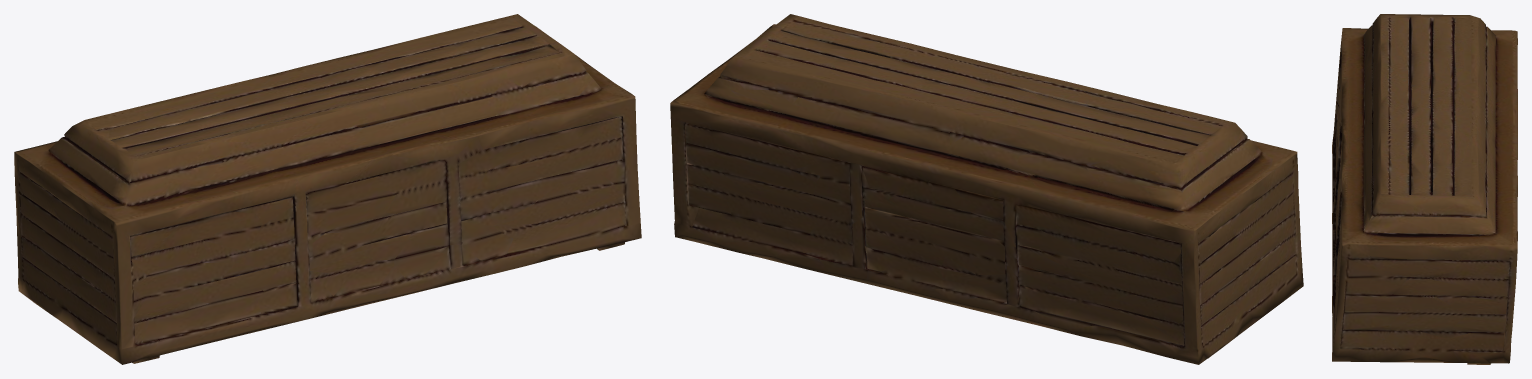
Rendered from Kabaong-512(10k).glb.
3 renders of one model, left to right at view 1: azimuth 30°, elevation 25°; view 2: azimuth 150°, elevation 25°; view 3: azimuth 270°, elevation 25°, orthographic. The views are drawn at different scales.
Visible parts, largest first — view 1: tripo_node_4a65c9a6-be33-41cd-bee0-36e4348d8f76; view 2: tripo_node_4a65c9a6-be33-41cd-bee0-36e4348d8f76; view 3: tripo_node_4a65c9a6-be33-41cd-bee0-36e4348d8f76.
Part boxes in pixels (x1,y1,x2,y2): tripo_node_4a65c9a6-be33-41cd-bee0-36e4348d8f76: [14, 14, 641, 364]; tripo_node_4a65c9a6-be33-41cd-bee0-36e4348d8f76: [670, 14, 1303, 364]; tripo_node_4a65c9a6-be33-41cd-bee0-36e4348d8f76: [1332, 14, 1517, 364].
Bounding box in the file's own units: 0.9787 × 0.3211 × 0.3549.
Materials: 1 (1 with a texture image).
